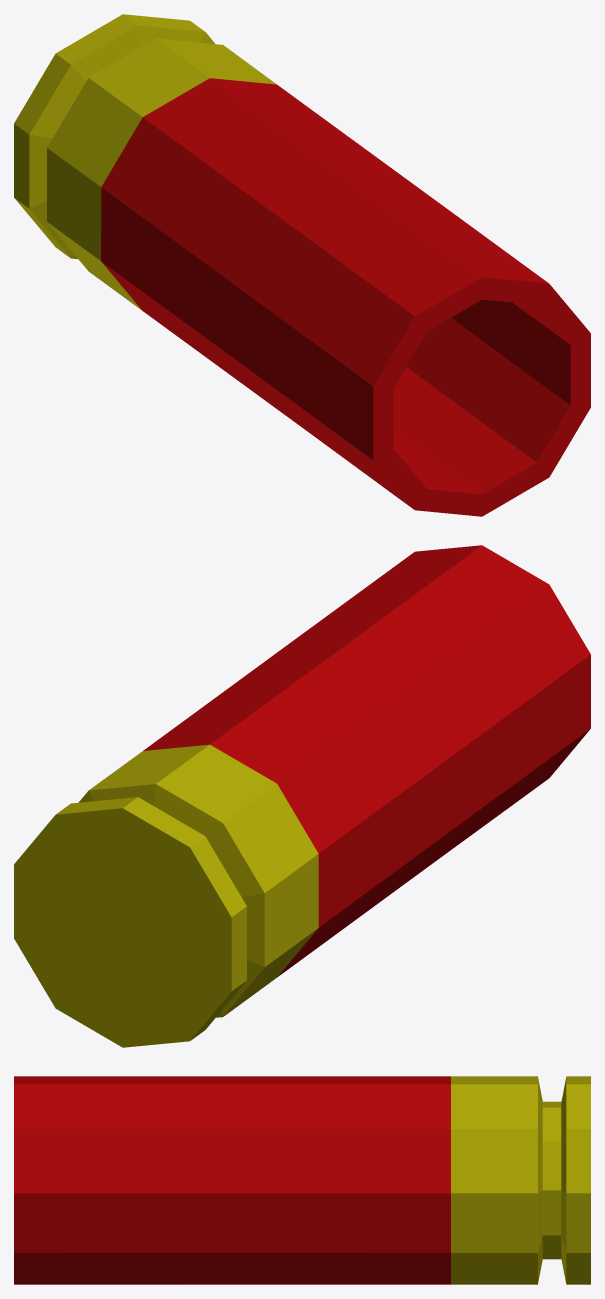
Rendered from LUSKA_szogun.glb.
3 renders of one model, top to bottom at view 1: azimuth 30°, elevation 25°; view 2: azimuth 150°, elevation 25°; view 3: azimuth 270°, elevation 25°, orthographic. The views are drawn at different scales.
Visible parts, largest first — view 1: Cylinder.002; view 2: Cylinder.002; view 3: Cylinder.002.
Part boxes in pixels (box(x1,y1,x2,y2)): Cylinder.002: box(14, 14, 590, 516); Cylinder.002: box(14, 545, 590, 1047); Cylinder.002: box(14, 1076, 590, 1284).
Size of the model in its own units: 0.0896 by 0.0942 by 0.2561.
